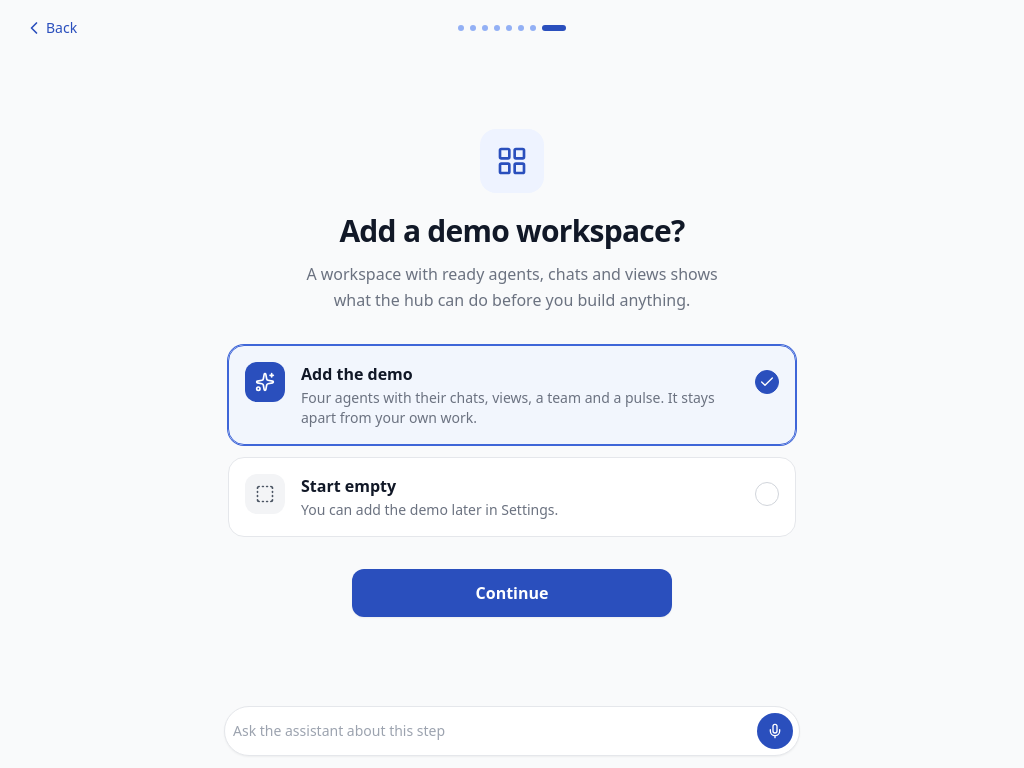
Scenario: FirstRun › resumes where it stopped when a model is there
The width and height of the screenshot is (1024, 768).
Expected: the element with test id "first-run-demo" is shown, [224, 56, 800, 674]
Click the button with test id "first-run-back". click: (51, 28)
box: [24, 18, 77, 38]
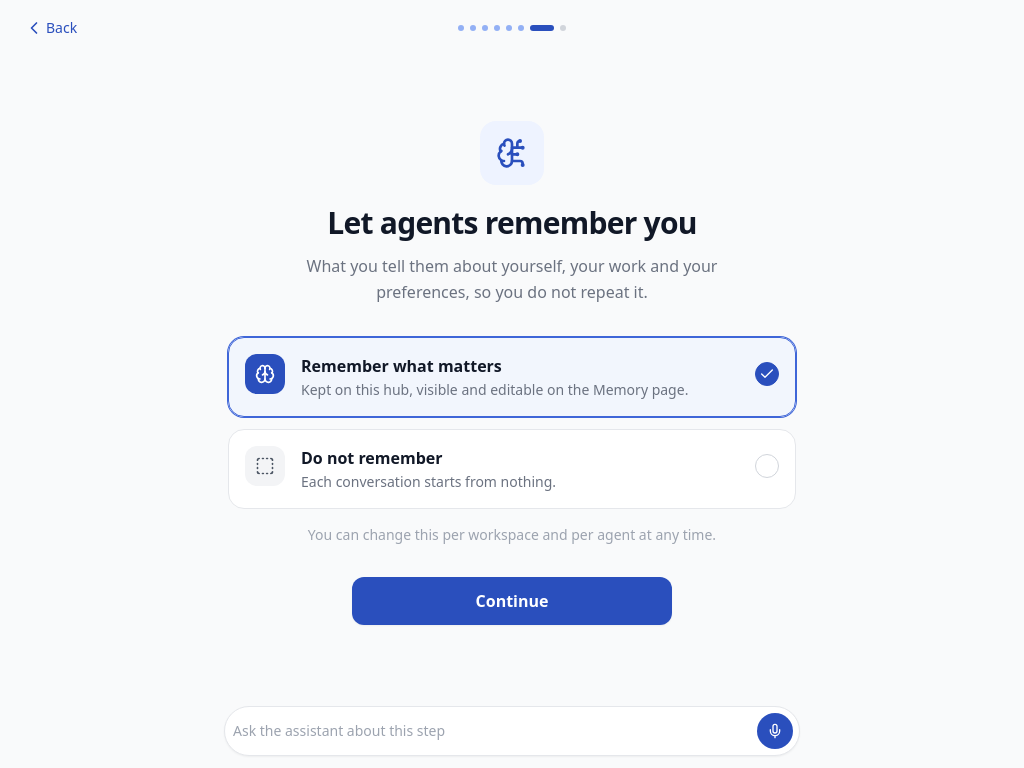
Now the element with test id "first-run-memory" is shown, box [224, 56, 800, 674]
